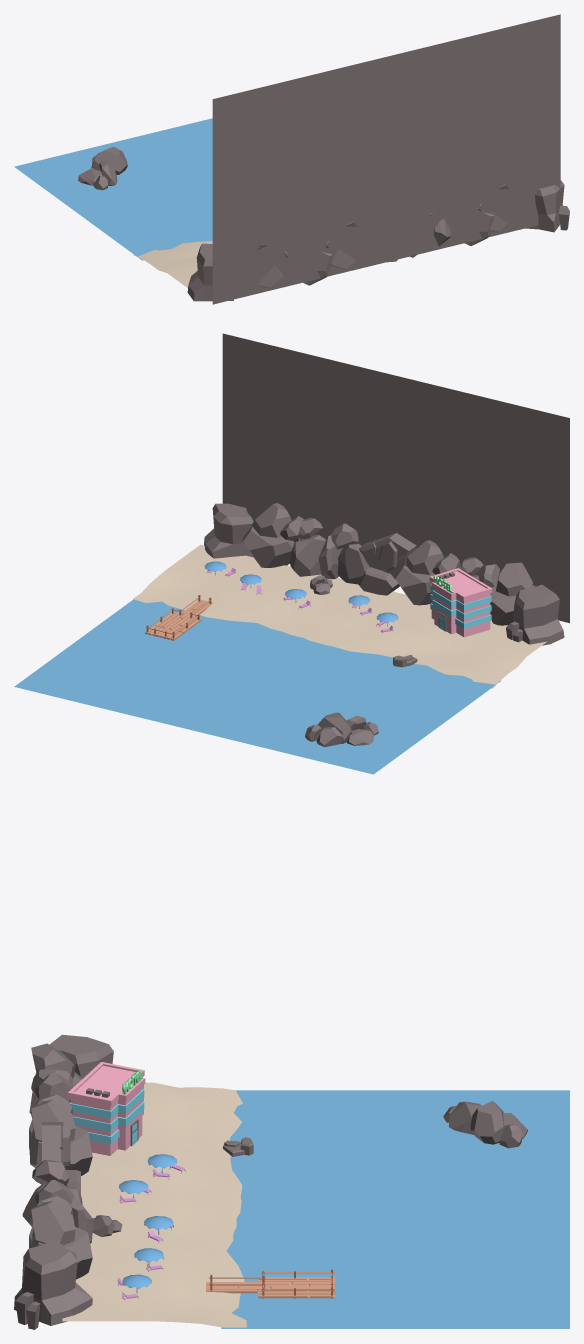
File: level_2.fbx
3 views of the same model, one above another, from view 1: azimuth 30°, elevation 25°; view 2: azimuth 150°, elevation 25°; view 3: azimuth 270°, elevation 25° (orthographic). The views are drawn at different scales.
Parts seen in each view (by area): view 1: deniz.001, deniz, kum, Rock_Type6_03_mesh.002, Rock_Type6_03_mesh.001, Rock_Type2_02_mesh.001, Rock_Type2_01_mesh.001, Rock_Type2_02_mesh.004, Rock_Type2_01_mesh.003; view 2: deniz.001, deniz, kum, Cube.012, Rock_Type6_03_mesh.001, Rock_Type2_01_mesh.004, Rock_Type1_03_mesh.002, Rock_Type2_01_mesh.002, Rock_Type2_02_mesh.003, Rock_Type2_01_mesh.003, Rock_Type6_03_mesh.002, Rock_Type2_02_mesh.005 (+3 smaller); view 3: deniz, kum, Cube.012, Rock_Type6_03_mesh.002, Rock_Type2_01_mesh.004, Cube.001, Rock_Type2_01_mesh.002, Rock_Type2_01_mesh.001, Rock_Type6_03_mesh.001, Rock_Type2_01_mesh.003, Rock_Type1_03_mesh.002, Rock_Type2_02_mesh.005 (+3 smaller).
Boxes of the visible parts, bbox=[...] form: deniz.001: bbox=[212, 14, 560, 304]; deniz: bbox=[14, 118, 212, 260]; kum: bbox=[133, 240, 212, 287]; Rock_Type6_03_mesh.002: bbox=[525, 180, 569, 232]; Rock_Type6_03_mesh.001: bbox=[187, 243, 233, 301]; Rock_Type2_02_mesh.001: bbox=[78, 160, 117, 190]; Rock_Type2_01_mesh.001: bbox=[91, 146, 127, 174]; Rock_Type2_02_mesh.004: bbox=[303, 251, 332, 285]; Rock_Type2_01_mesh.003: bbox=[257, 244, 288, 288]; deniz.001: bbox=[222, 333, 569, 623]; deniz: bbox=[14, 599, 501, 774]; kum: bbox=[133, 544, 546, 688]; Cube.012: bbox=[429, 568, 492, 637]; Rock_Type6_03_mesh.001: bbox=[506, 584, 564, 645]; Rock_Type2_01_mesh.004: bbox=[242, 503, 303, 567]; Rock_Type1_03_mesh.002: bbox=[359, 533, 416, 595]; Rock_Type2_01_mesh.002: bbox=[394, 540, 460, 605]; Rock_Type2_02_mesh.003: bbox=[318, 523, 369, 584]; Rock_Type2_01_mesh.003: bbox=[477, 562, 535, 625]; Rock_Type6_03_mesh.002: bbox=[204, 503, 253, 558]; Rock_Type2_02_mesh.005: bbox=[289, 517, 326, 576]; deniz: bbox=[221, 1090, 569, 1328]; kum: bbox=[62, 1082, 246, 1327]; Cube.012: bbox=[68, 1062, 145, 1155]; Rock_Type6_03_mesh.002: bbox=[14, 1239, 92, 1329]; Rock_Type2_01_mesh.004: bbox=[31, 1195, 92, 1279]; Cube.001: bbox=[206, 1269, 334, 1298]; Rock_Type2_01_mesh.002: bbox=[29, 1094, 92, 1175]; Rock_Type2_01_mesh.001: bbox=[470, 1101, 527, 1148]; Rock_Type6_03_mesh.001: bbox=[49, 1034, 113, 1078]; Rock_Type2_01_mesh.003: bbox=[29, 1043, 82, 1113]; Rock_Type1_03_mesh.002: bbox=[42, 1122, 80, 1194]; Rock_Type2_02_mesh.005: bbox=[29, 1180, 93, 1248].
Size of the model in its own units: 10165 by 5850 by 9830.
